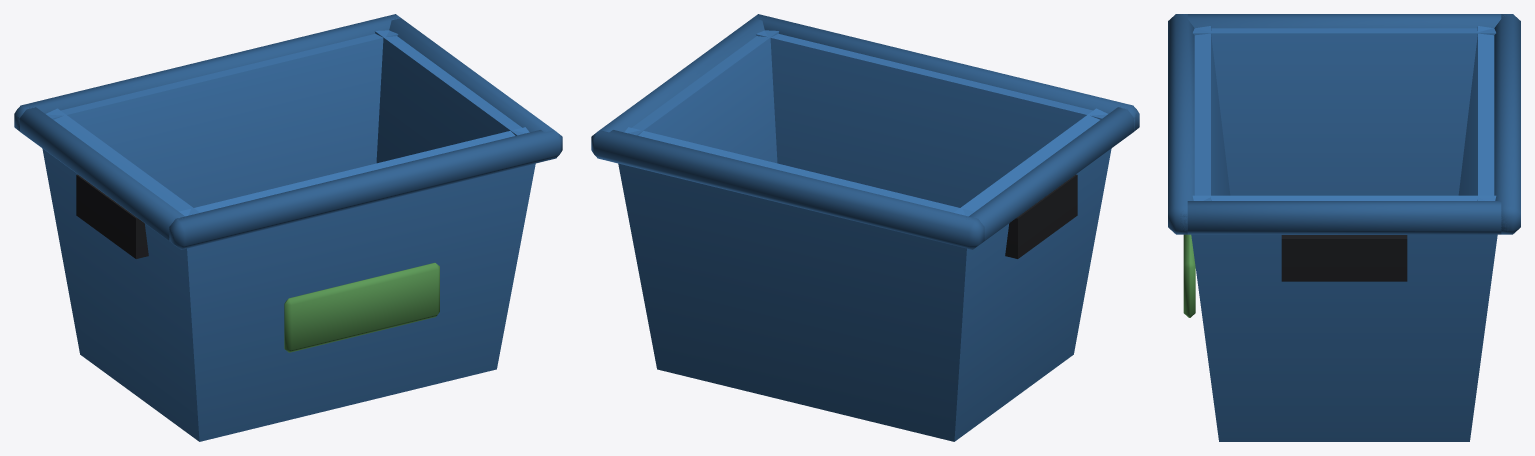
File: SM_RecycleBin_01.glb
3 views of the same model, side by side, from view 1: azimuth 30°, elevation 25°; view 2: azimuth 150°, elevation 25°; view 3: azimuth 270°, elevation 25° (orthographic). The views are drawn at different scales.
Parts seen in each view (by area): view 1: SM_RecycleBin_01; view 2: SM_RecycleBin_01; view 3: SM_RecycleBin_01.
Boxes of the visible parts, <box> form: SM_RecycleBin_01: <box>14,14,562,441</box>; SM_RecycleBin_01: <box>591,14,1139,441</box>; SM_RecycleBin_01: <box>1168,14,1520,441</box>.
Size of the model in its own units: 0.6 by 0.36 by 0.45.
Materials: 1 (1 with a texture image).
